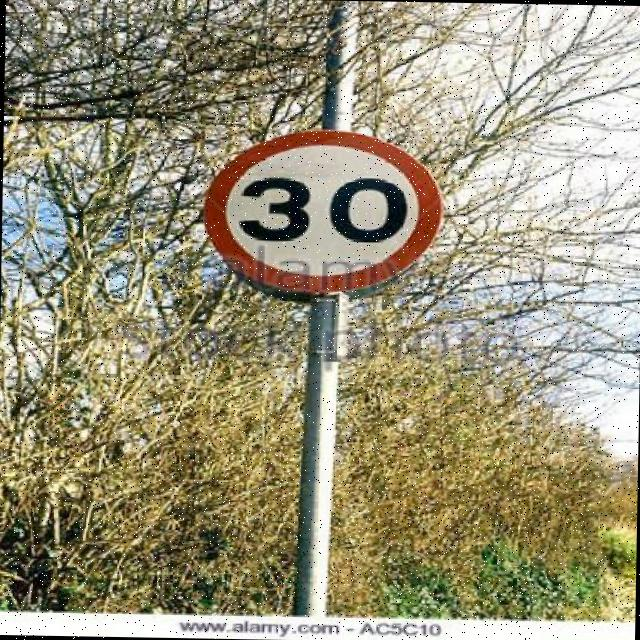Ograniczenie predkosci do 30: (205, 125, 450, 295)
